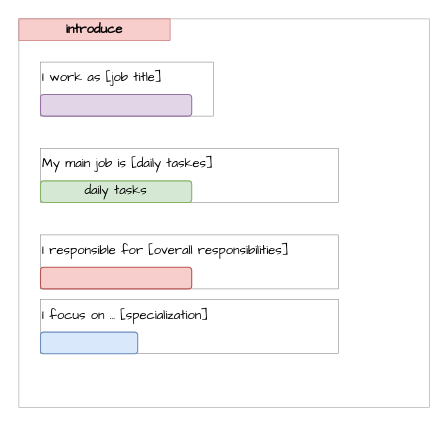
The diagram is 448 pixels wide and 427 high, and some of its shapes have lost their labels. The shapes that lost their labels are listed below. From the top down, each one's box as (x1, y1, x2, y2) in pixels, then its label:
(39, 93, 192, 116): job title
(39, 266, 192, 289): overall responsibilities
(39, 331, 138, 354): specialization
